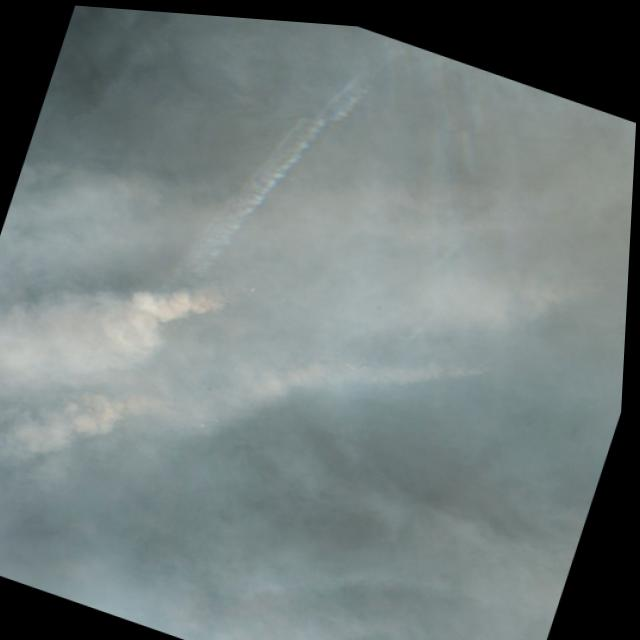fire: (89, 68, 627, 524)
